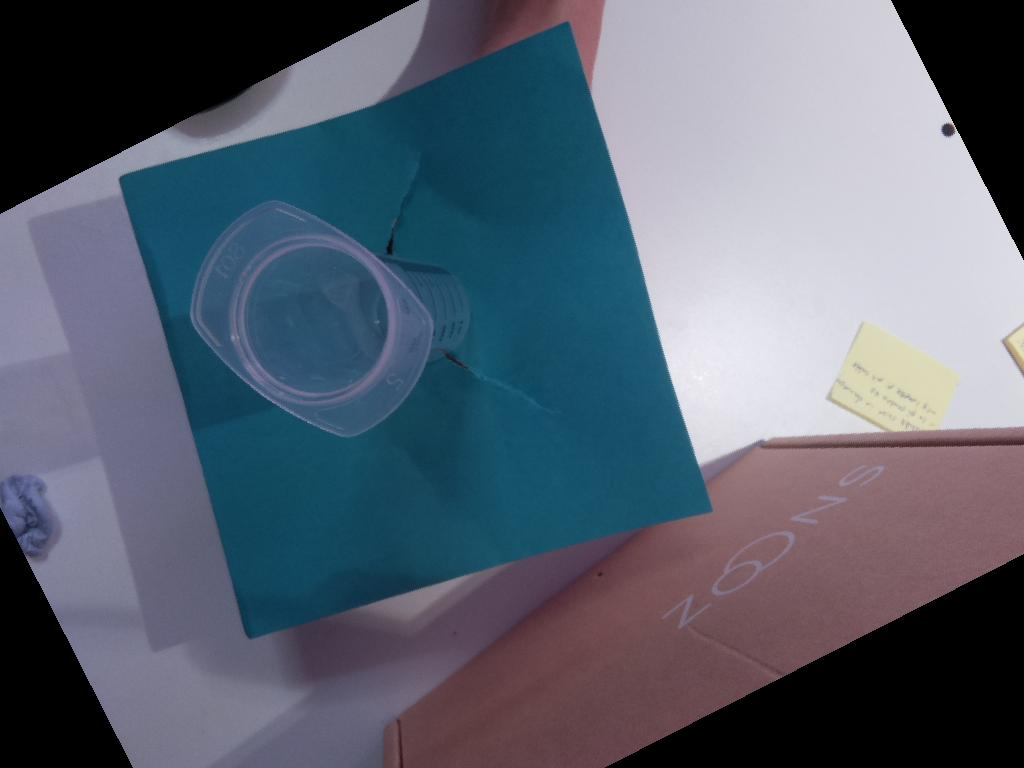clean: (187, 199, 436, 440)
